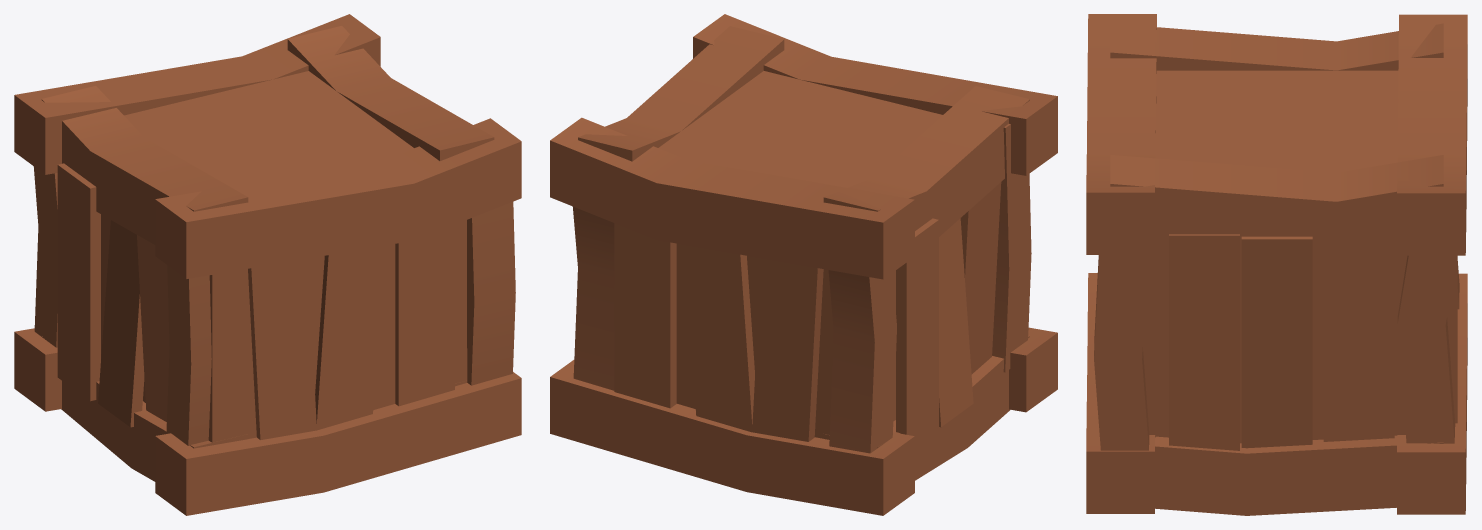
File: SUbstanceBox.fbx
3 renders of one model, left to right at view 1: azimuth 30°, elevation 25°; view 2: azimuth 150°, elevation 25°; view 3: azimuth 270°, elevation 25°, orthographic. The views are drawn at different scales.
Visible parts, largest first — view 1: pCube29; view 2: pCube29; view 3: pCube29.
Boxes of the visible parts, bbox=[...] form: pCube29: bbox=[14, 14, 521, 515]; pCube29: bbox=[550, 14, 1057, 515]; pCube29: bbox=[1086, 14, 1467, 515].
Bounding box in the file's own units: 3.28 × 2.83 × 2.95.
